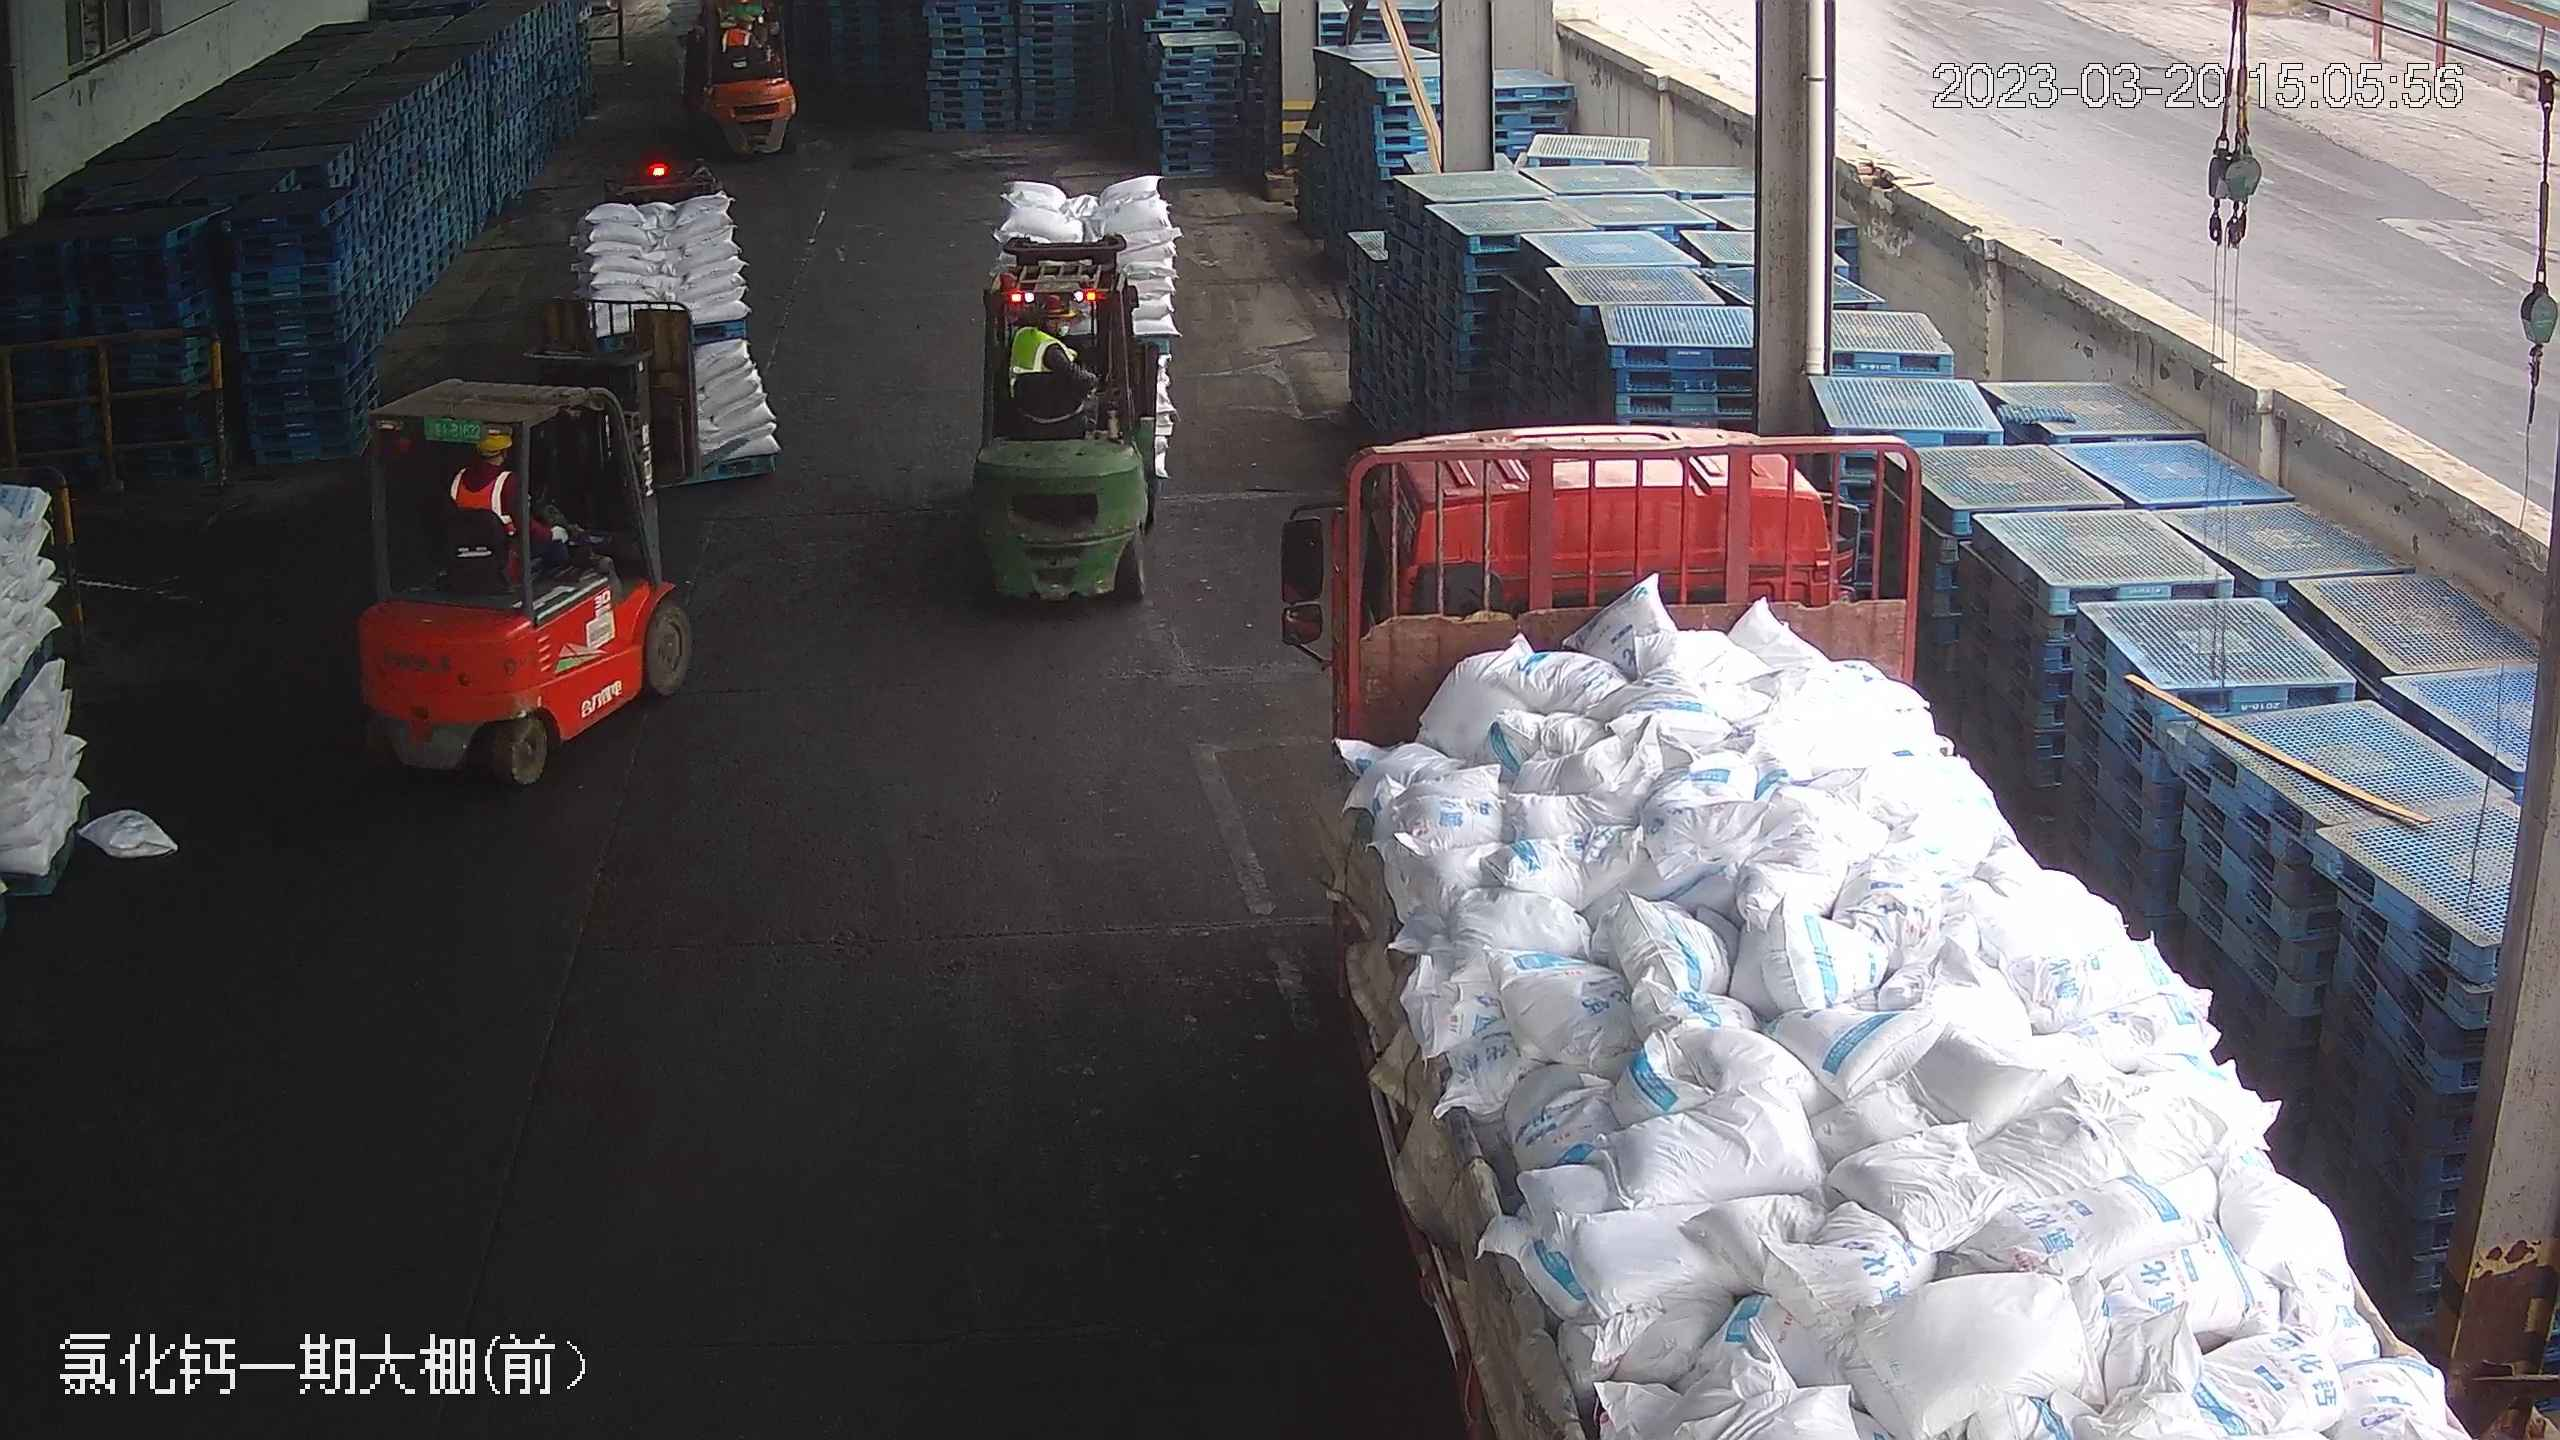people: (451, 428, 595, 576)
truck: (1285, 394, 2426, 1440)
